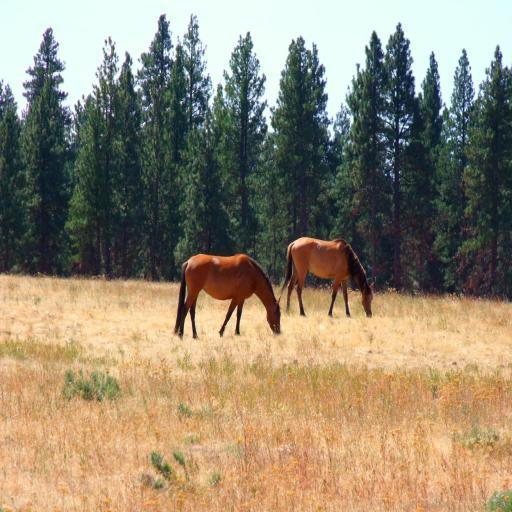horse: (173, 250, 282, 339), (278, 236, 374, 316)
